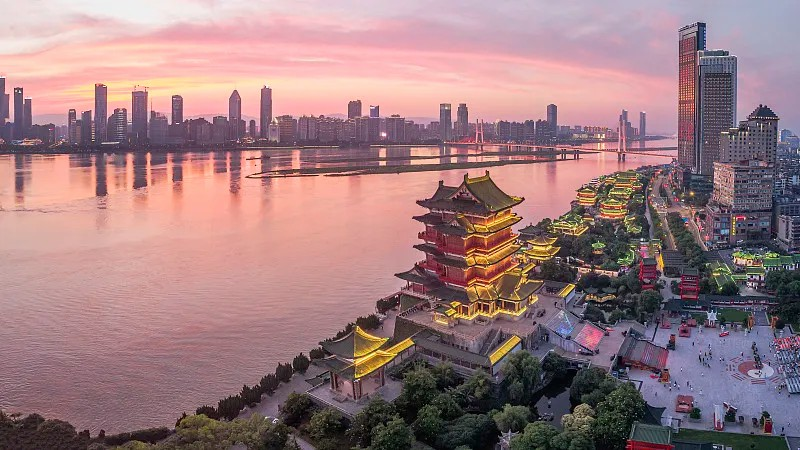Teng: (395, 170, 545, 314)
